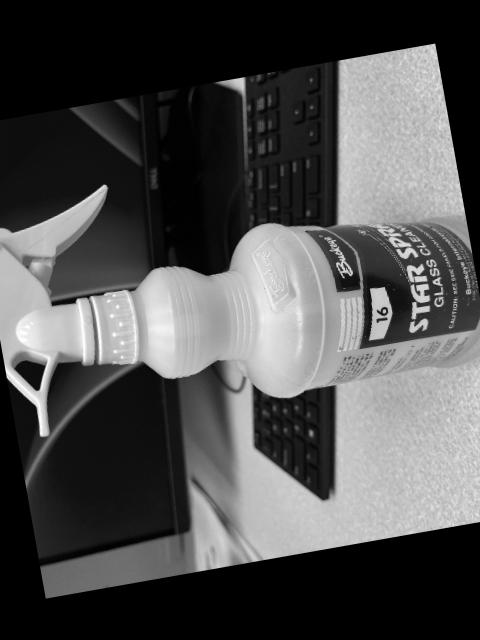StarSpray: (0, 184, 480, 436)
